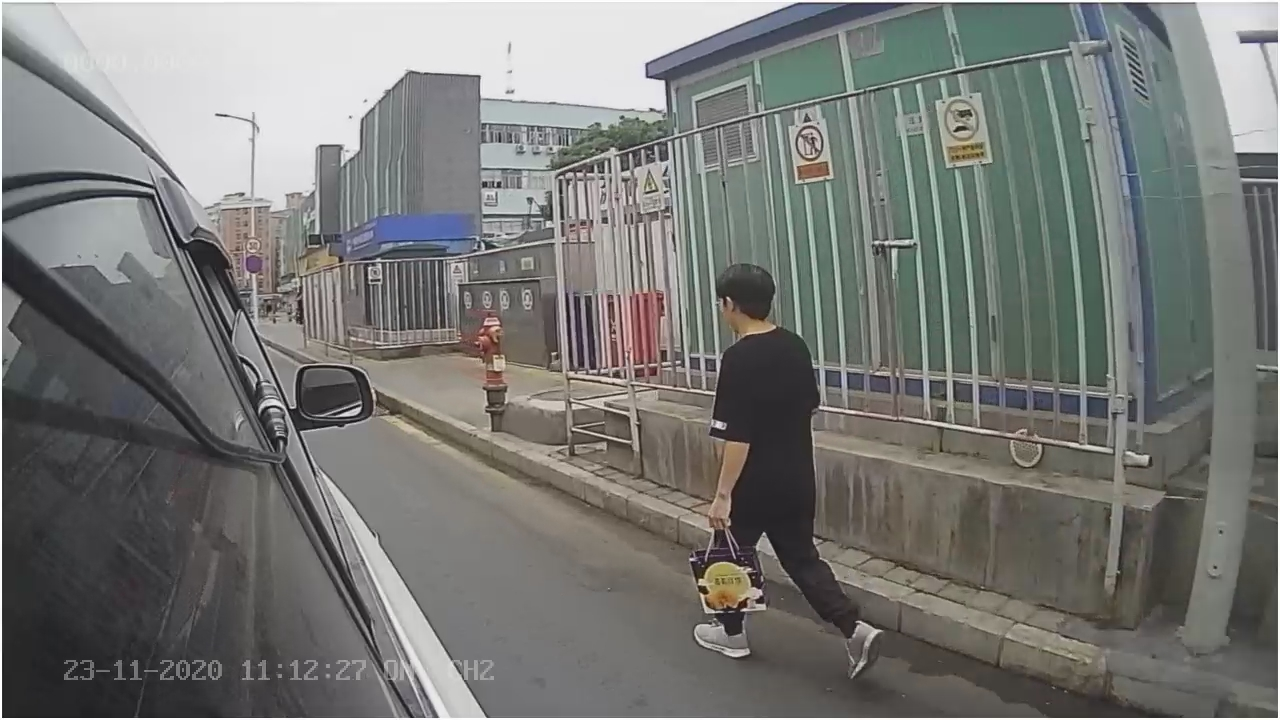person: (686, 257, 884, 691)
